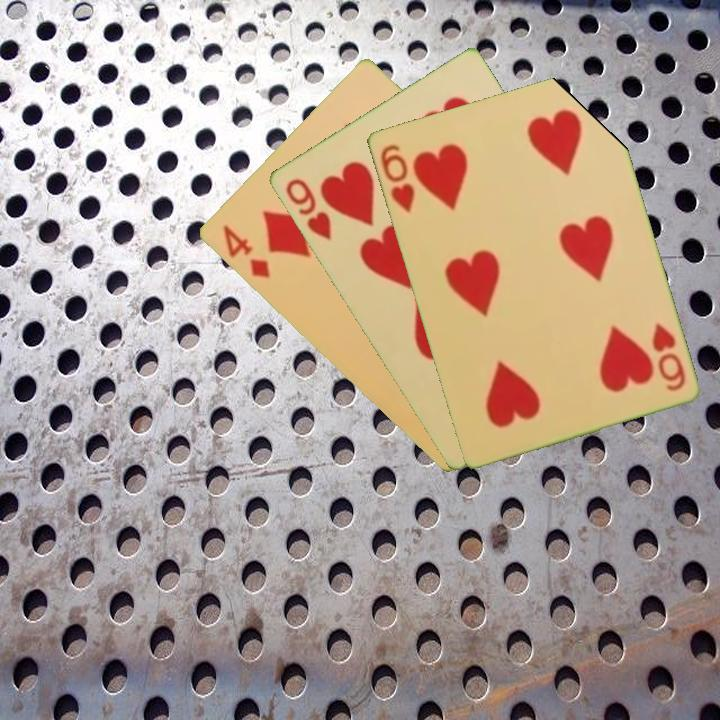4d: (218, 221, 273, 281)
6h: (376, 140, 417, 216), (647, 319, 688, 394)
9h: (281, 174, 334, 244)
